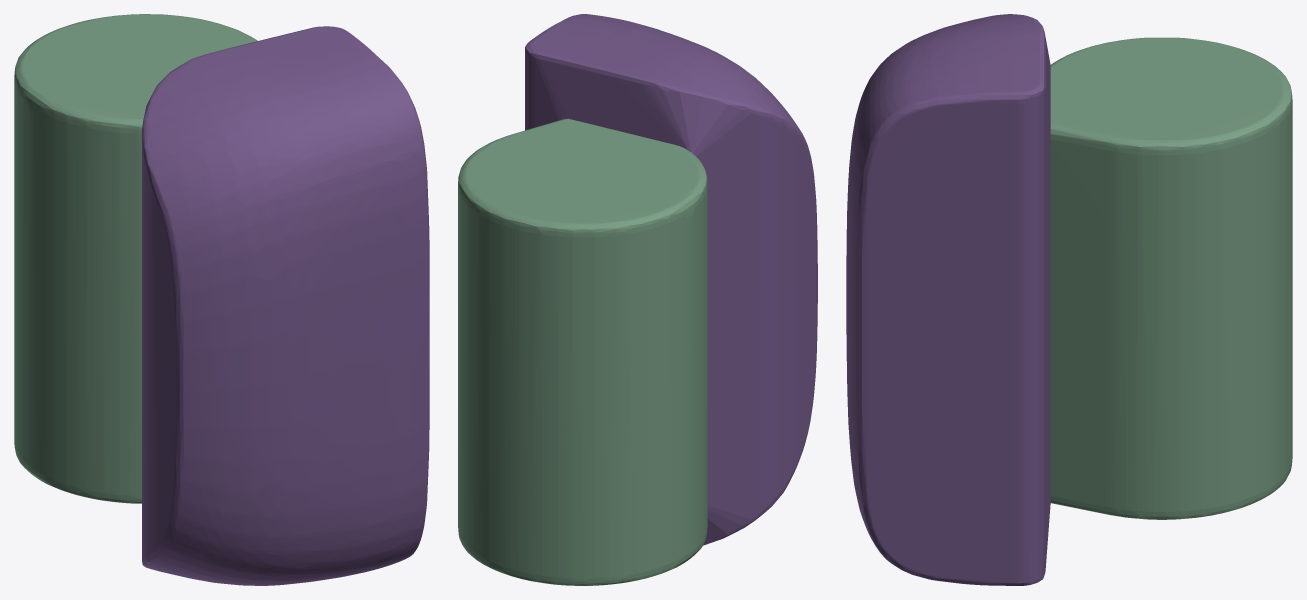
File: head_l3.obj
3 views of the same model, side by side, from view 1: azimuth 30°, elevation 25°; view 2: azimuth 150°, elevation 25°; view 3: azimuth 270°, elevation 25° (orthographic). The views are drawn at different scales.
Visible parts, largest first — view 1: geometry_1, geometry_0; view 2: geometry_0, geometry_1; view 3: geometry_0, geometry_1.
Part boxes in pixels (left/top/right/bottom): geometry_1: left=142, top=26, right=429, bottom=585; geometry_0: left=14, top=14, right=257, bottom=503; geometry_0: left=458, top=118, right=707, bottom=585; geometry_1: left=525, top=14, right=817, bottom=545; geometry_0: left=1050, top=37, right=1292, bottom=519; geometry_1: left=846, top=14, right=1050, bottom=585.
Size of the model in its own units: 0.0679 by 0.1323 by 0.1084.
